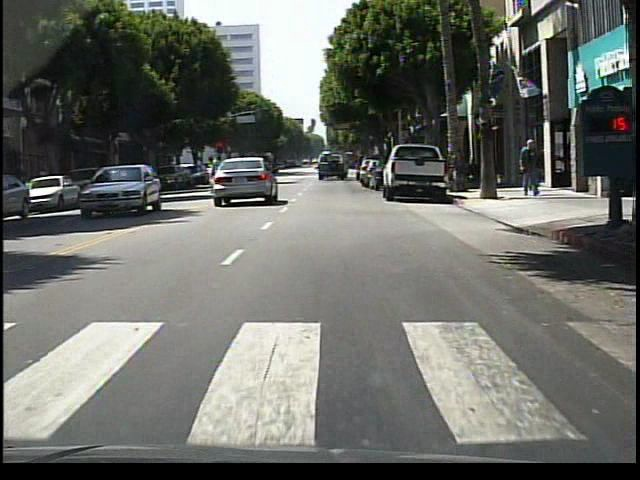person: (520, 138, 543, 200), (525, 147, 540, 196), (210, 157, 225, 201)
